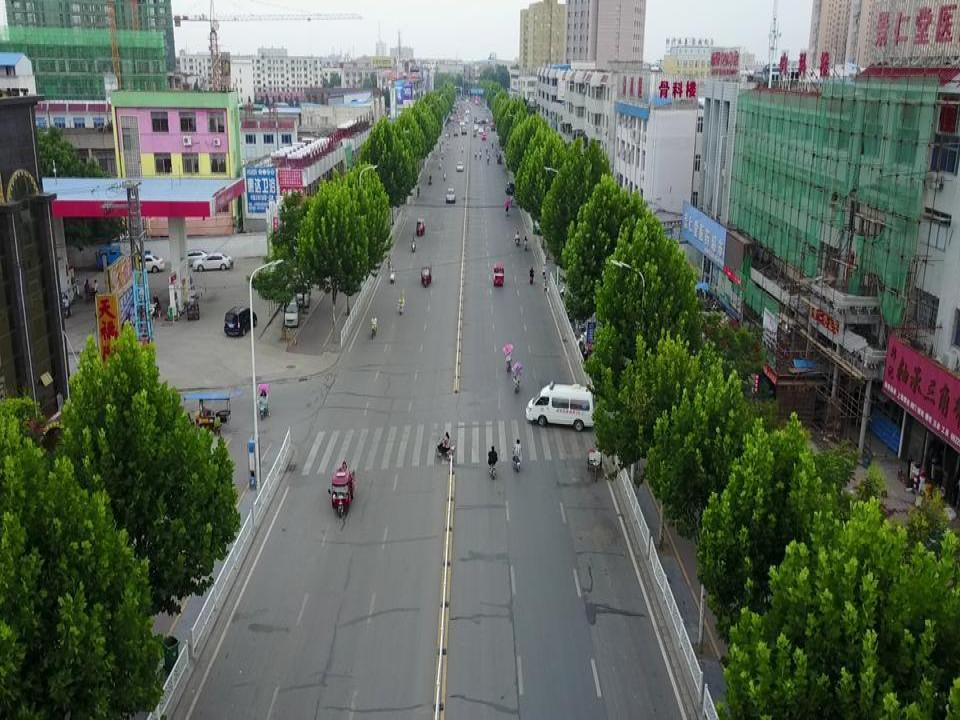car: (194, 253, 232, 271), (136, 253, 164, 272), (182, 250, 204, 266), (506, 178, 515, 194), (454, 160, 463, 173), (446, 189, 454, 202)
truck: (96, 244, 149, 267)
van: (526, 380, 596, 433), (224, 305, 258, 335), (292, 277, 311, 308), (282, 302, 299, 326)
